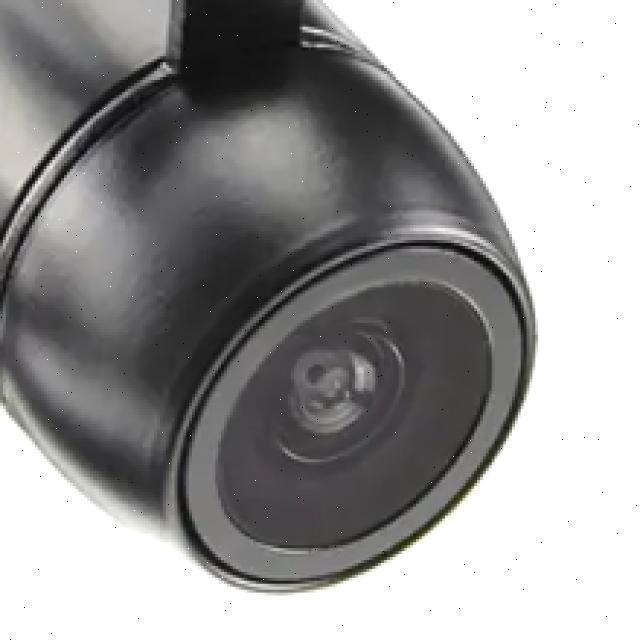cctv: (147, 197, 570, 600)
